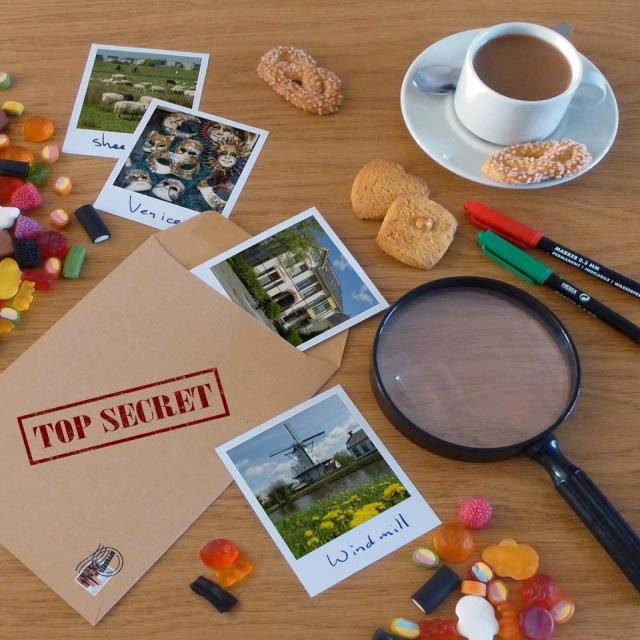Tea: (472, 33, 572, 98)
